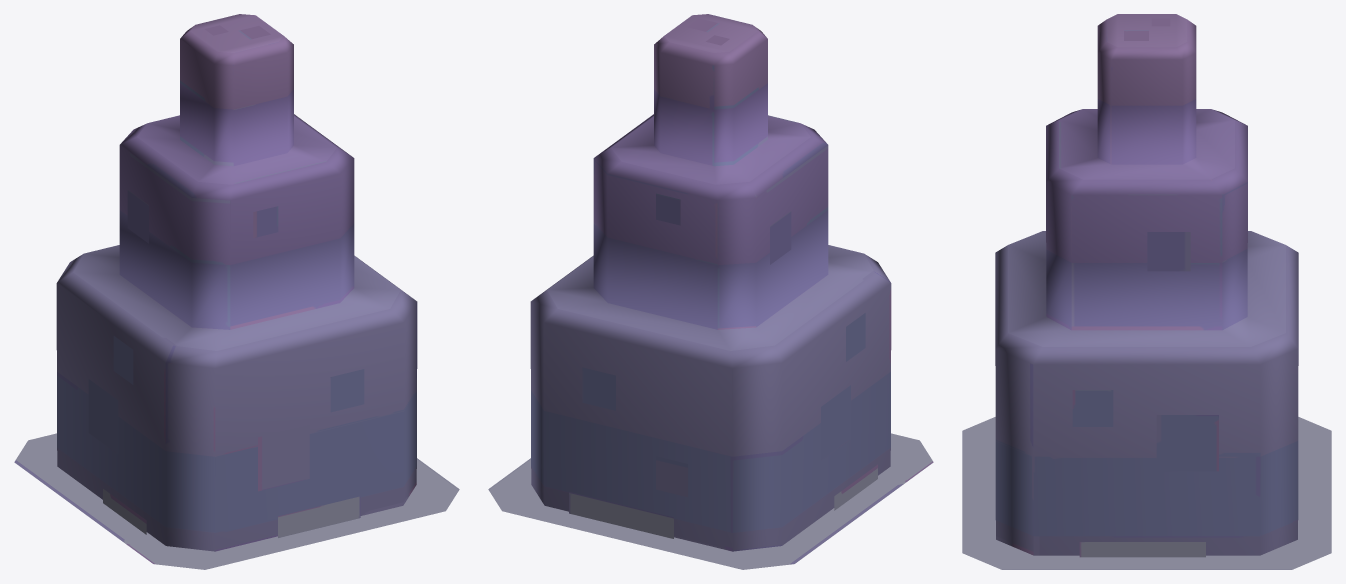
The model's file is B_cave1_rock01.fbx.
The picture shows the model from 3 angles, left to right: view 1: azimuth 30°, elevation 25°; view 2: azimuth 150°, elevation 25°; view 3: azimuth 270°, elevation 25°; orthographic projection. The views are drawn at different scales.
Parts seen in each view (by area): view 1: model 1, model; view 2: model 1, model; view 3: model 1, model.
Part boxes in pixels (x1=…): model 1: x1=15, y1=14, x2=458, y2=569; model: x1=14, y1=433, x2=459, y2=569; model 1: x1=489, y1=14, x2=932, y2=569; model: x1=488, y1=433, x2=933, y2=569; model 1: x1=962, y1=14, x2=1331, y2=569; model: x1=962, y1=417, x2=1331, y2=569.
Bounding box in the file's own units: 3.65 × 5.07 × 3.65.
1 material, 1 textured.
